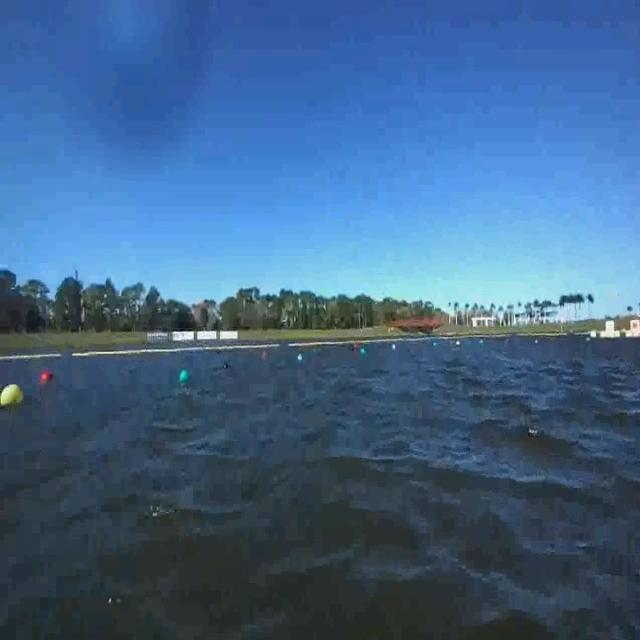green-buoy: (182, 368, 192, 382)
red-buoy: (41, 372, 52, 385)
yellow-buoy: (0, 382, 24, 407)
